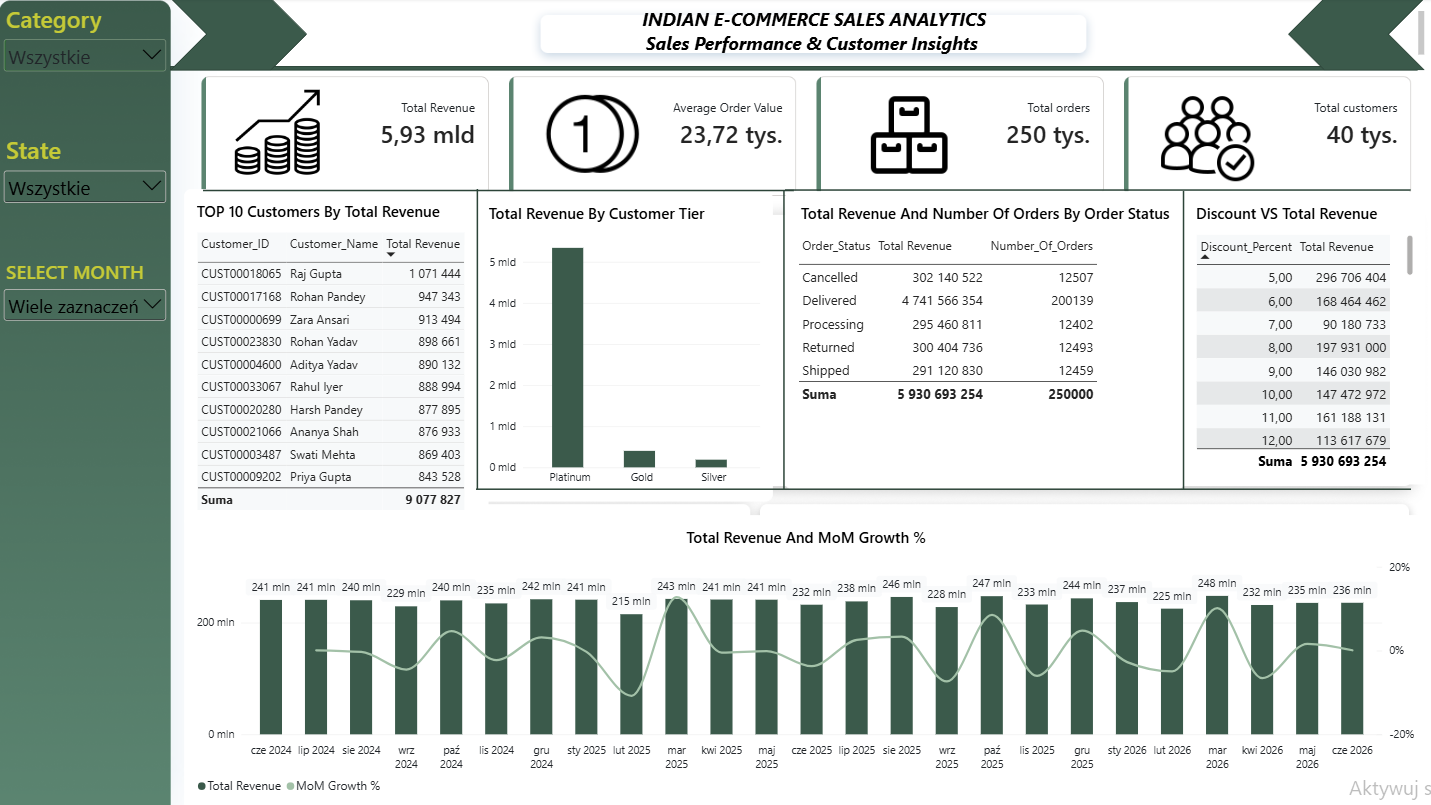

What the dashboard file says about the page in this screenshot:
{"tool":"powerbi","page":{"name":"Strona 1","canvas":[1920,1080],"ordinal":0},"visuals":[{"type":"tableEx","title":"TOP 10 Customers By Total Revenue","fields":{"Values":["Sales.Customer_ID","Customers.Customer_Name","Sales.Total Revenue"]},"box":[244.9,253.7,405.3,449],"z":5000},{"type":"slicer","fields":{"Values":["Customers.State"]},"box":[0,179.3,226,94.8],"z":6000},{"type":"slicer","fields":{"Values":["Products.Category"]},"box":[0,7.3,226,126.8],"z":8000},{"type":"textbox","box":[279.9,17.5,1615.3,61.2],"z":9000},{"type":"image","box":[279.9,121,179.3,115.2],"z":11000},{"type":"cardVisual","fields":{"Data":["Sales.Total Revenue","Sales.Average Order Value","Sales.Total orders","Sales.Total customers"]},"box":[244.9,78.7,1632,179.3],"z":12000},{"type":"image","box":[1109.4,123.9,199.7,116.6],"z":15000},{"type":"lineStackedColumnComboChart","title":"Total Revenue And MoM Growth %","fields":{"Category":["Calendar.MiesiacNazwa"],"Y":["Sales.Total Revenue"],"Y2":["Sales.MoM Growth %"]},"box":[231.8,686.7,1647.4,393.6],"z":15001},{"type":"slicer","fields":{"Values":["Calendar.MiesiacNazwa"]},"box":[0,347,226,177.9],"z":15002},{"type":"shape","box":[226,90.4,1659,5.8],"z":15003},{"type":"shape","box":[1713,0,182.2,96.2],"z":15004},{"type":"shape","box":[226,0,182.2,96.2],"z":15005},{"type":"clusteredColumnChart","title":"Total Revenue By Customer Tier","fields":{"Category":["Customers.Customer_Tier"],"Y":["Sales.Total Revenue"]},"box":[632.7,256.6,395.1,412.6],"z":15006},{"type":"tableEx","title":"Total Revenue And Number Of Orders By Order Status","fields":{"Values":["Sales.Order_Status","Sales.Total Revenue","Sales.Number_Of_Orders"]},"box":[1043.8,256.6,530.7,396.5],"z":15007},{"type":"tableEx","title":"Discount VS Total Revenue","fields":{"Values":["Products.Discount_Percent","Sales.Total Revenue"]},"box":[1574.5,258,320.7,389.2],"z":15008},{"type":"shape","box":[1005.9,256.6,74.4,396.5],"z":15009},{"type":"shape","box":[1043.8,217.2,832.4,77.3],"z":15010},{"type":"shape","box":[1527.8,256.6,91.8,396.5],"z":15011},{"type":"shape","box":[632.7,619.6,1243.6,67.1],"z":15012},{"type":"shape","box":[269.7,240.5,785.8,30.6],"z":15013},{"type":"shape","box":[606.5,253.7,56.9,399.5],"z":15014},{"type":"image","box":[683.7,107.9,207,145.8],"z":15015},{"type":"image","box":[1511.8,119.5,188.1,125.4],"z":15016}]}

Visuals, with their boxes in screenshot pixels (x1, y1, x2, y2):
"TOP 10 Customers By Total Revenue" tableEx: left=181, top=184, right=468, bottom=502
slicer - Customers.State: left=7, top=131, right=168, bottom=198
slicer - Products.Category: left=7, top=9, right=168, bottom=99
textbox: left=206, top=16, right=1351, bottom=60
image: left=206, top=90, right=333, bottom=171
cardVisual - Sales.Total Revenue x Sales.Average Order Value: left=181, top=60, right=1338, bottom=187
image: left=794, top=92, right=936, bottom=174
"Total Revenue And MoM Growth %" lineStackedColumnComboChart: left=172, top=491, right=1340, bottom=770
slicer - Calendar.MiesiacNazwa: left=7, top=250, right=168, bottom=376
shape: left=168, top=68, right=1344, bottom=72
shape: left=1222, top=4, right=1351, bottom=72
shape: left=168, top=4, right=297, bottom=72
"Total Revenue By Customer Tier" clusteredColumnChart: left=456, top=186, right=736, bottom=478
"Total Revenue And Number Of Orders By Order Status" tableEx: left=747, top=186, right=1124, bottom=467
"Discount VS Total Revenue" tableEx: left=1124, top=187, right=1351, bottom=463
shape: left=721, top=186, right=773, bottom=467
shape: left=747, top=158, right=1338, bottom=213
shape: left=1091, top=186, right=1156, bottom=467
shape: left=456, top=443, right=1338, bottom=491
shape: left=199, top=174, right=756, bottom=196
shape: left=437, top=184, right=478, bottom=467
image: left=492, top=80, right=639, bottom=184
image: left=1079, top=88, right=1213, bottom=177
